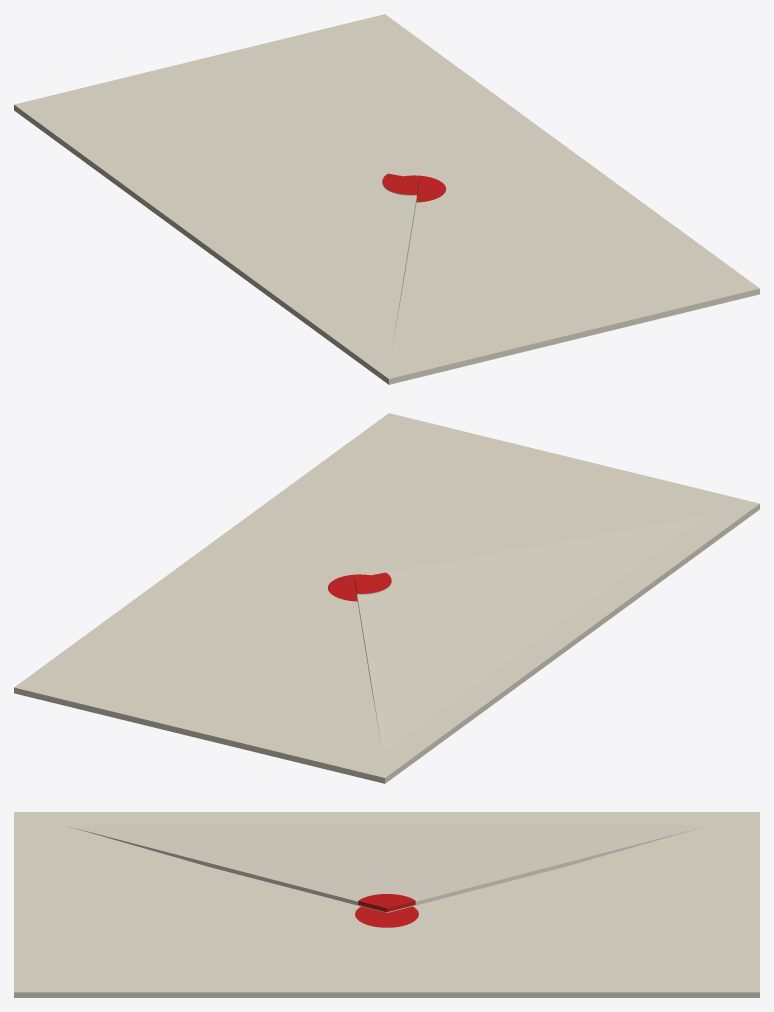
Rendered from Envelope.fbx.
3 views of the same model, one above another, from view 1: azimuth 30°, elevation 25°; view 2: azimuth 150°, elevation 25°; view 3: azimuth 270°, elevation 25° (orthographic).
Visible parts, largest first — view 1: Cube, Cap_2_2, Disc; view 2: Cube, Cap_2_2, Disc; view 3: Cube, Cap_2_2, Extrude, Disc, Cap_2.
Boxes of the visible parts, <box> form: Cube: <box>14,14,759,384</box>; Cap_2_2: <box>68,116,416,352</box>; Disc: <box>404,175,445,202</box>; Cube: <box>14,413,759,783</box>; Cap_2_2: <box>357,515,705,751</box>; Disc: <box>328,574,369,601</box>; Cube: <box>14,812,759,997</box>; Cap_2_2: <box>66,825,707,901</box>; Extrude: <box>69,826,704,912</box>; Disc: <box>355,906,418,927</box>; Cap_2: <box>358,894,415,908</box>.
Size of the model in its own units: 200 by 7.89 by 350.
